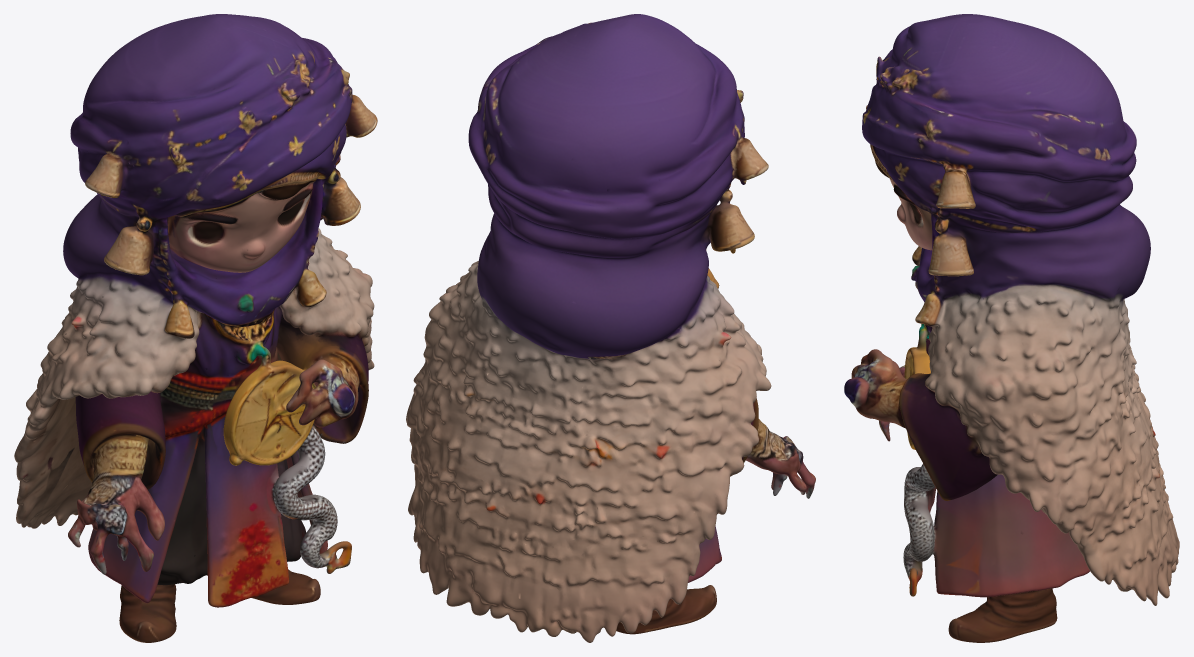
The model's file is hero01.glb.
3 views of the same model, side by side, from view 1: azimuth 30°, elevation 25°; view 2: azimuth 150°, elevation 25°; view 3: azimuth 270°, elevation 25° (orthographic). The views are drawn at different scales.
Visible parts, largest first — view 1: texture_v128_online.001; view 2: texture_v128_online.001; view 3: texture_v128_online.001.
Boxes of the visible parts, bbox=[...] form: texture_v128_online.001: bbox=[14, 14, 377, 642]; texture_v128_online.001: bbox=[406, 14, 815, 642]; texture_v128_online.001: bbox=[844, 14, 1179, 642].
Bounding box in the file's own units: 1.26 × 2 × 1.05.
1 material, 1 textured.
